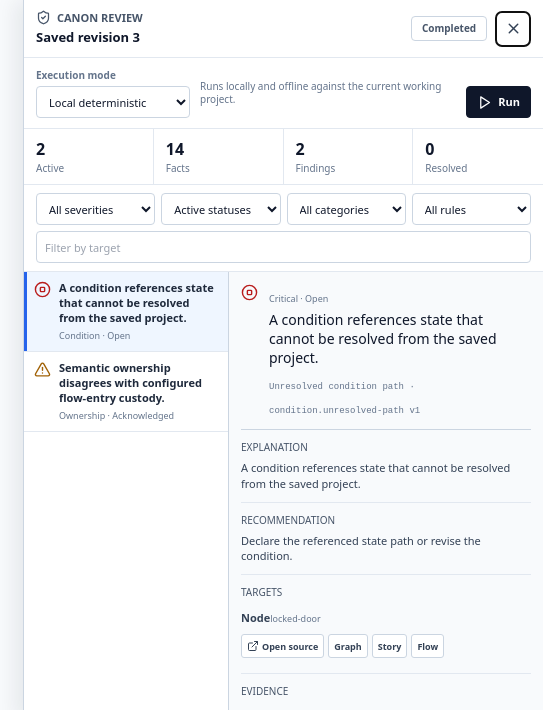
Test: CanonWorkspace › hides historical issues by default and distinguishes their statuses
Select "All statuses" in the dropdown named "Status" at (221, 209), box [161,193,281,225]
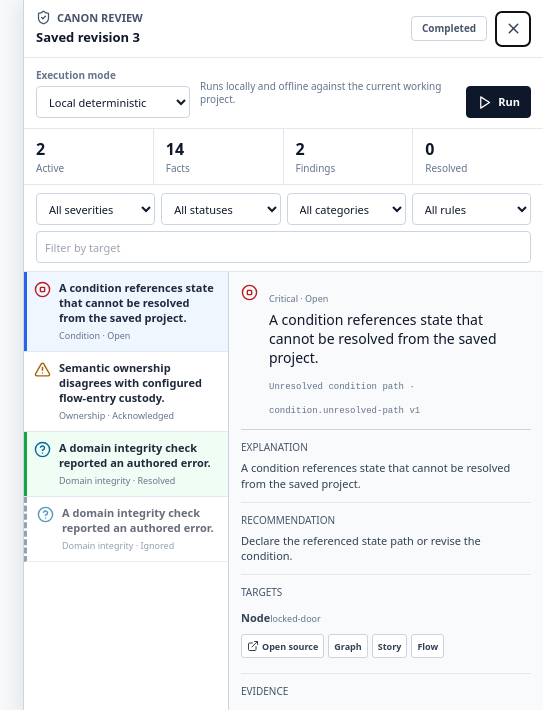
Now the 3rd option is shown, box [24,432,228,497]
Now the 4th option is shown, box [24,497,228,562]
